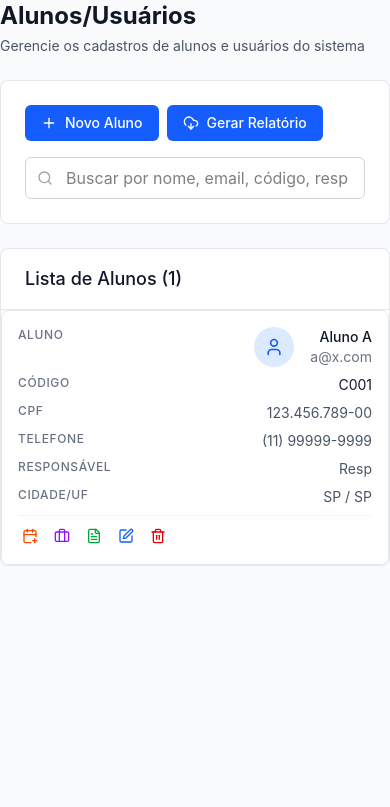
Students page › loads details and opens edit modal
Click the button titled "Editar".
click(126, 536)  # box [114, 524, 138, 548]
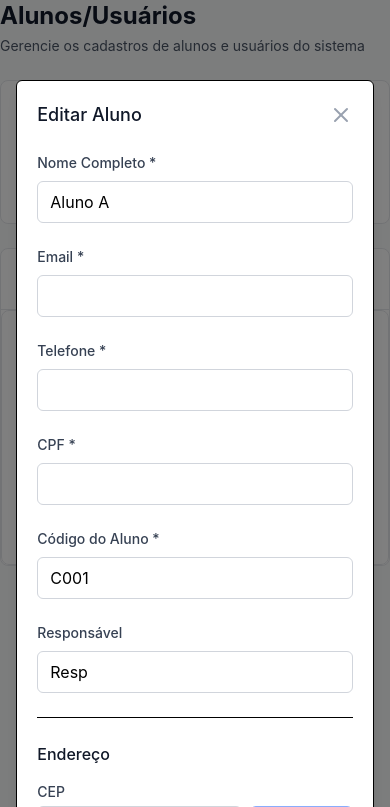
Check: the heading "Editar Aluno" is shown, box [37, 101, 142, 129]
